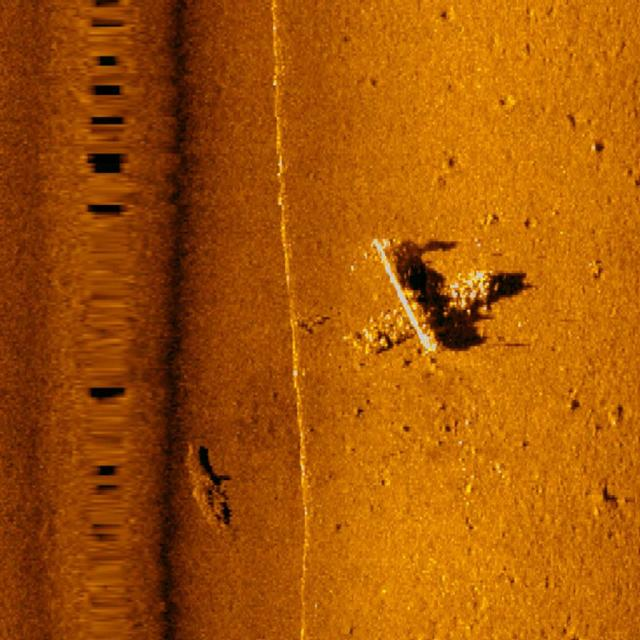plane: (328, 226, 526, 375)
